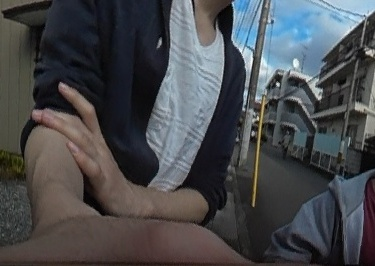person: (283, 128, 291, 154)
